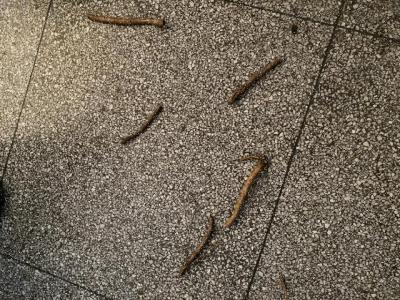Root: (226, 155, 266, 226), (227, 58, 280, 104), (178, 216, 213, 274), (121, 105, 161, 143), (88, 15, 164, 26)
